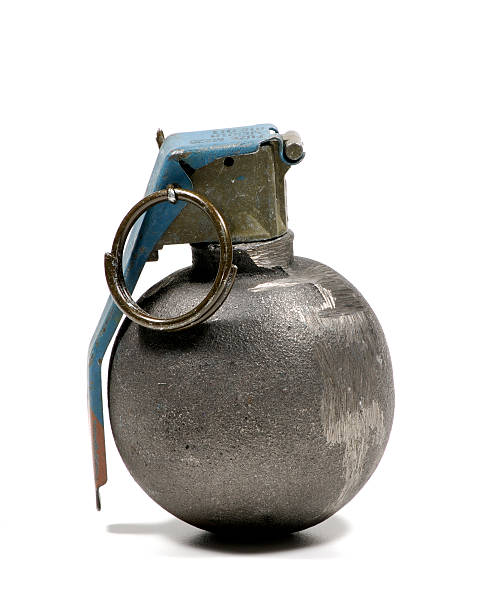e1: (82, 119, 401, 547)
